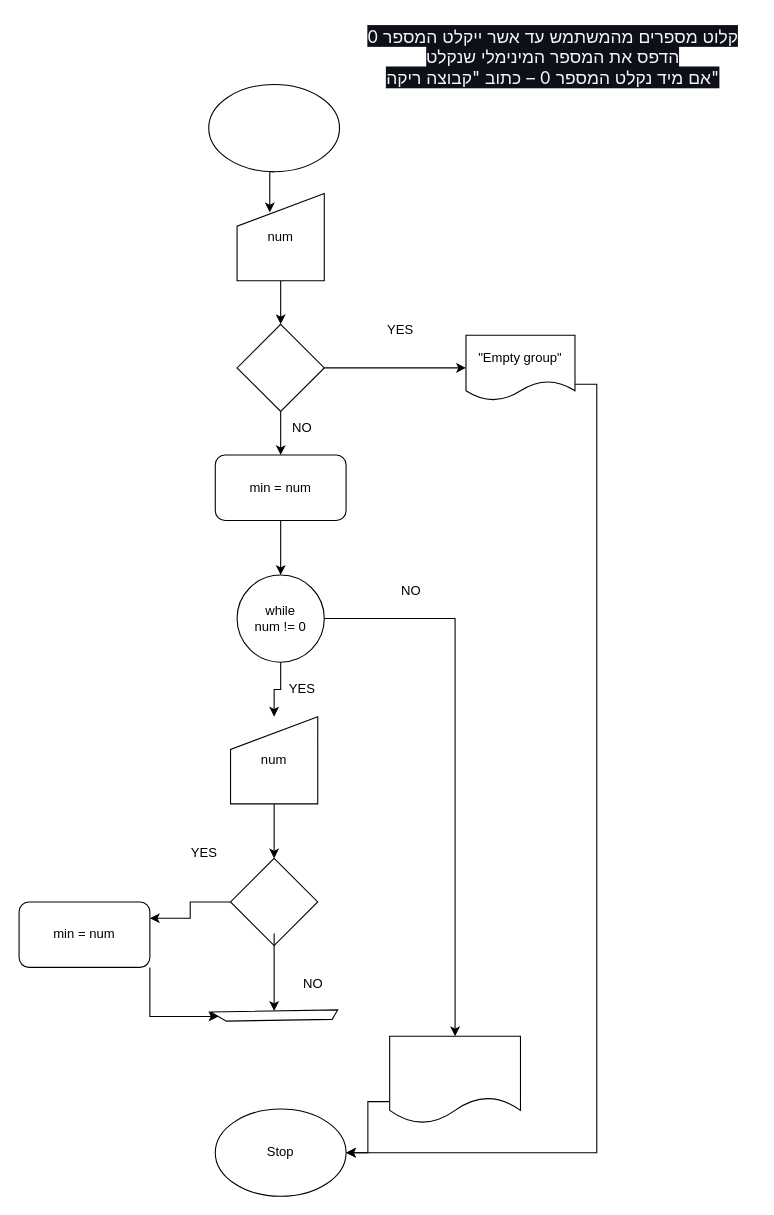
Image size: 774x1215. Some labels were removed from this diagram. Each missing label, with the centre of its shape:
"The minimal number:", min: pixel 454 1079
if num < min: pixel 273 901
if num == 0: pixel 280 367
Start: pixel 274 127
